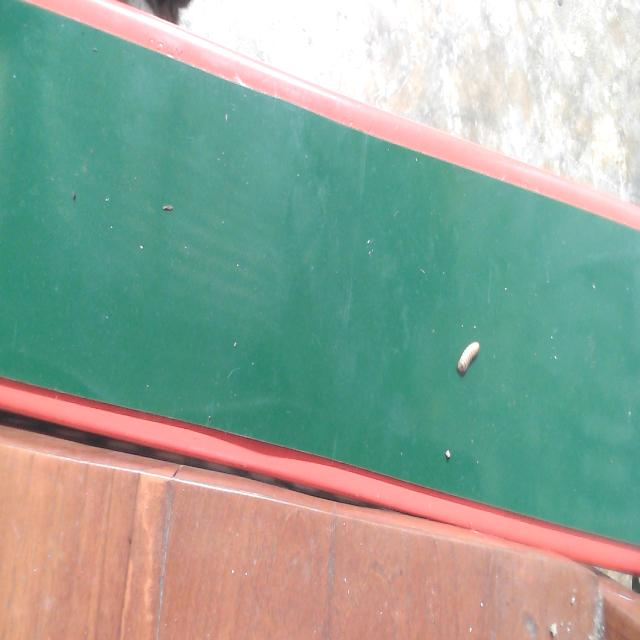Maggot: (456, 341, 483, 377)
